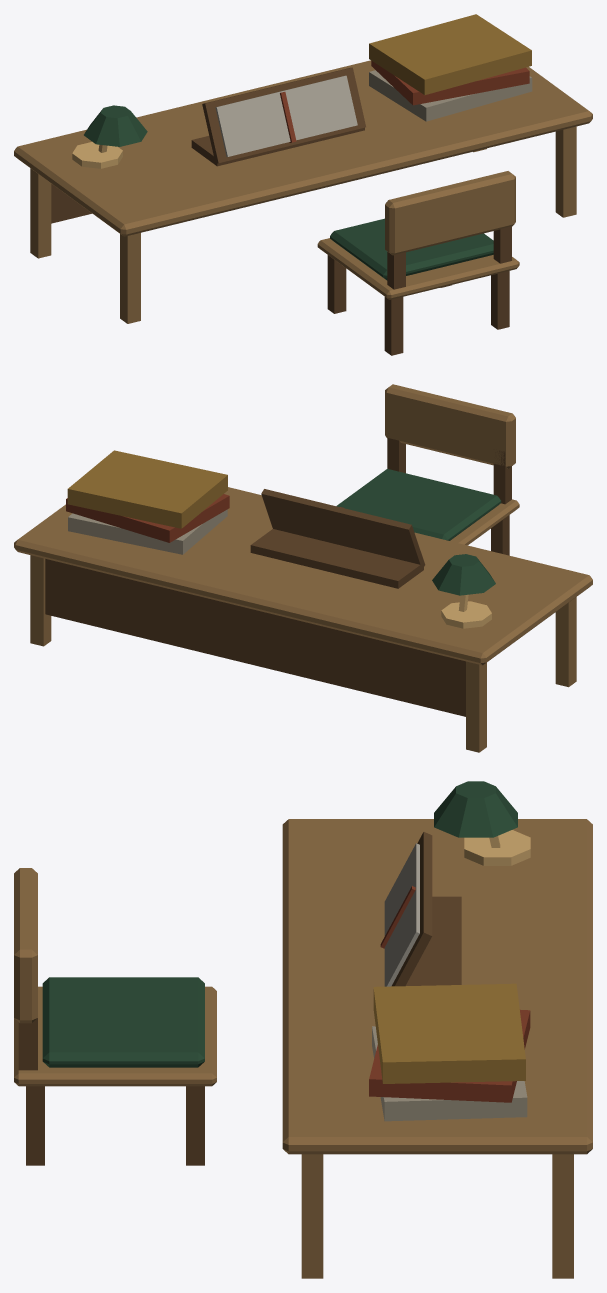
3 views of the same model, one above another, from view 1: azimuth 30°, elevation 25°; view 2: azimuth 150°, elevation 25°; view 3: azimuth 270°, elevation 25° (orthographic). The views are drawn at different scales.
Parts seen in each view (by area): view 1: furniture_25_reading_desk; view 2: furniture_25_reading_desk; view 3: furniture_25_reading_desk.
Boxes of the visible parts, <box> form: furniture_25_reading_desk: <box>14,14,592,355</box>; furniture_25_reading_desk: <box>14,384,592,752</box>; furniture_25_reading_desk: <box>14,781,592,1278</box>.
Bounding box in the file's own units: 3.11 × 1 × 2.35.
